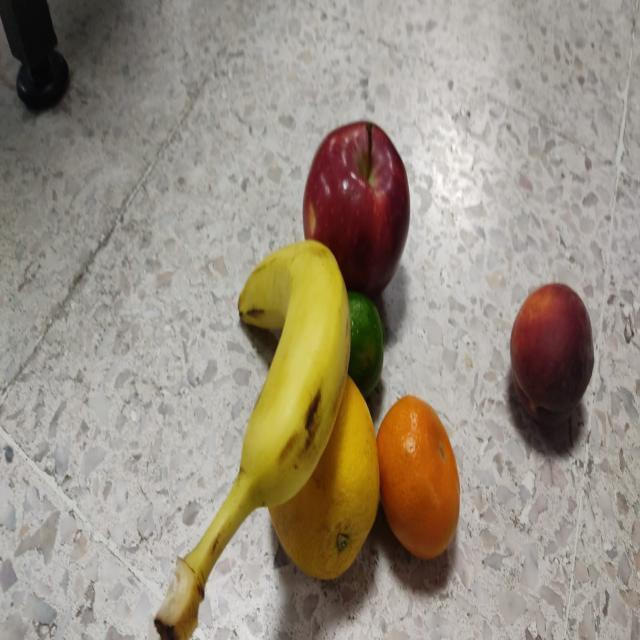Apel Merah: (300, 116, 410, 306)
Jeruk: (263, 368, 378, 581)
Jeruk Mandarin: (373, 395, 462, 557)
Lemon: (326, 296, 384, 402)
Persik: (509, 282, 594, 430)
Pisang: (156, 235, 350, 638)
